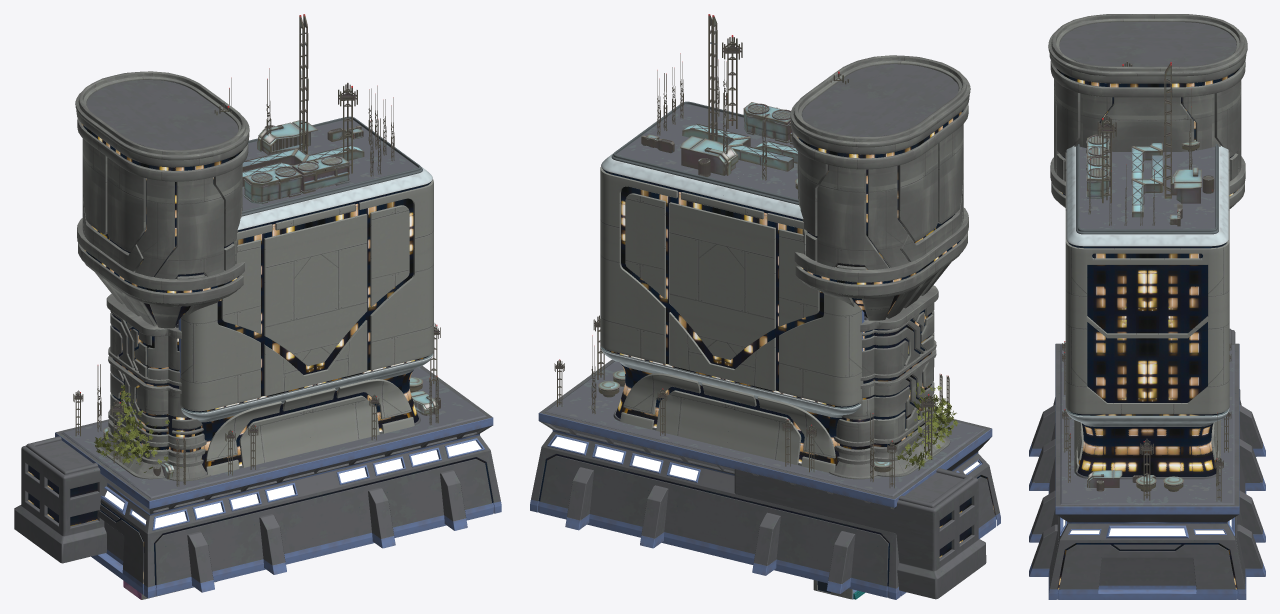
Rendered from city-kit.glb.
The picture shows the model from 3 angles, left to right: view 1: azimuth 30°, elevation 25°; view 2: azimuth 150°, elevation 25°; view 3: azimuth 270°, elevation 25°; orthographic projection. The views are drawn at different scales.
Visible parts, largest first — view 1: SM_Building03_Top_02, SM_Building_02__lod, SM_Building_02, SM_Building03_Base_01, SM_Building03_Base_04, SM_Building03_Top_01, SM_Building03_Props, SM_Building03_Top_01__lod, SM_Building_04__lod, SM_Building_04, SM_Tree1, SM_Building03_Top_03 (+1 smaller); view 2: SM_Building03_Top_03, SM_Building_02__lod, SM_Building03_Top_04, SM_Building_02, SM_Building03_Base_03, SM_Building03_Base_02, SM_Building03_Props, SM_Building_04__lod, SM_Building03_Base_01, SM_Building03_Top_02, SM_Building_04, SM_Tree1; view 3: SM_Building03_Top_02, SM_Building03_Top_03, SM_Building_02__lod, SM_Building03_Base_03, SM_Building03_Base_04, SM_Building_02, SM_Building03_Props, SM_Building03_Base_02, SM_Building03_Base_01, SM_Building03_Top_04, SM_Building03_Top_01.
Part boxes in pixels (bbox=[...]): SM_Building03_Top_02: bbox=[305, 141, 433, 451]; SM_Building_02__lod: bbox=[75, 71, 249, 481]; SM_Building_02: bbox=[75, 71, 249, 481]; SM_Building03_Base_01: bbox=[97, 451, 324, 598]; SM_Building03_Base_04: bbox=[312, 383, 501, 554]; SM_Building03_Top_01: bbox=[179, 186, 316, 475]; SM_Building03_Props: bbox=[73, 14, 440, 486]; SM_Building03_Top_01__lod: bbox=[177, 195, 316, 475]; SM_Building_04__lod: bbox=[14, 437, 298, 563]; SM_Building_04: bbox=[15, 436, 225, 562]; SM_Tree1: bbox=[94, 384, 181, 472]; SM_Building03_Top_03: bbox=[248, 116, 386, 165]; SM_Building03_Top_03: bbox=[600, 127, 756, 447]; SM_Building_02__lod: bbox=[790, 55, 970, 478]; SM_Building03_Top_04: bbox=[722, 164, 865, 472]; SM_Building_02: bbox=[790, 55, 970, 479]; SM_Building03_Base_03: bbox=[530, 377, 725, 555]; SM_Building03_Base_02: bbox=[713, 448, 943, 599]; SM_Building03_Props: bbox=[554, 14, 949, 488]; SM_Building_04__lod: bbox=[734, 468, 986, 599]; SM_Building03_Base_01: bbox=[932, 415, 1000, 538]; SM_Building03_Top_02: bbox=[648, 101, 785, 147]; SM_Building_04: bbox=[735, 468, 985, 598]; SM_Tree1: bbox=[896, 382, 958, 470]; SM_Building03_Top_02: bbox=[1065, 176, 1147, 479]; SM_Building03_Top_03: bbox=[1147, 176, 1229, 479]; SM_Building_02__lod: bbox=[1048, 14, 1247, 208]; SM_Building03_Base_03: bbox=[1147, 424, 1265, 599]; SM_Building03_Base_04: bbox=[1029, 424, 1147, 599]; SM_Building_02: bbox=[1048, 14, 1247, 208]; SM_Building03_Props: bbox=[1062, 61, 1231, 501]; SM_Building03_Base_02: bbox=[1221, 343, 1265, 493]; SM_Building03_Base_01: bbox=[1029, 343, 1074, 493]; SM_Building03_Top_04: bbox=[1147, 144, 1229, 423]; SM_Building03_Top_01: bbox=[1065, 144, 1147, 422].
Bounding box in the file's own units: 36.04 × 45.78 × 19.43.
Materials: 56 (53 with a texture image).
